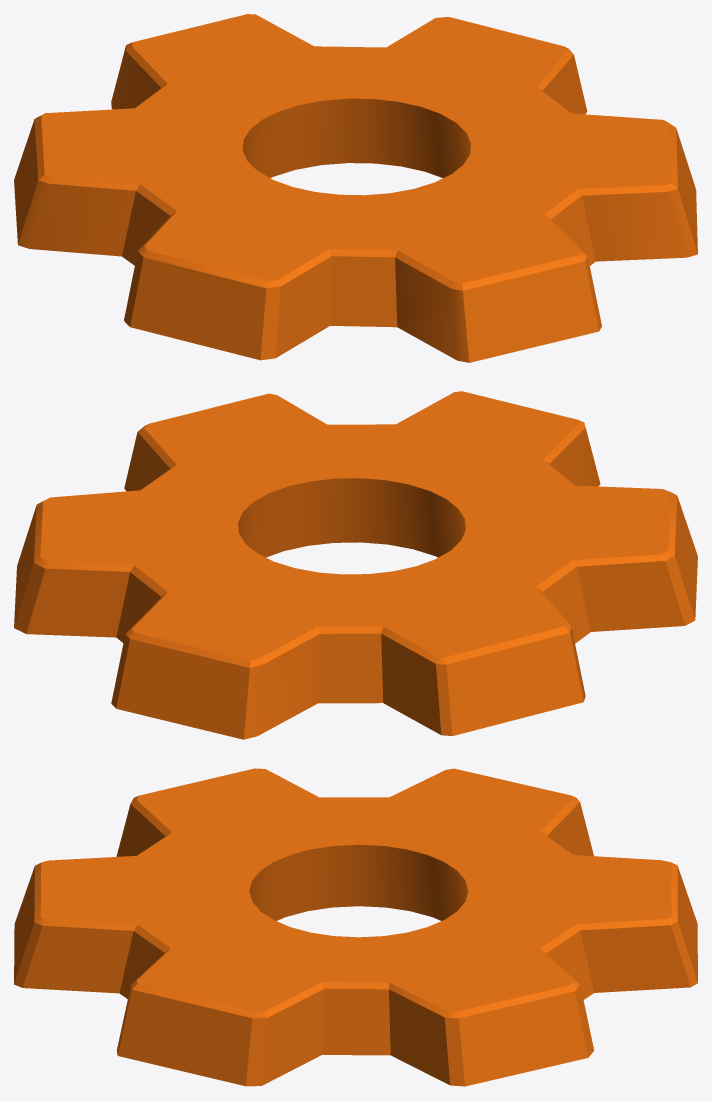
The model's file is Pref.FBX.
The picture shows the model from 3 angles, top to bottom: view 1: azimuth 30°, elevation 25°; view 2: azimuth 150°, elevation 25°; view 3: azimuth 270°, elevation 25°; orthographic projection. The views are drawn at different scales.
Parts seen in each view (by area): view 1: PrefSymbol; view 2: PrefSymbol; view 3: PrefSymbol.
Part boxes in pixels (<box>): PrefSymbol: <box>14,14,697,362</box>; PrefSymbol: <box>14,391,697,739</box>; PrefSymbol: <box>14,768,697,1086</box>.
Bounding box in the file's own units: 6.22 × 0.7099 × 6.8.
